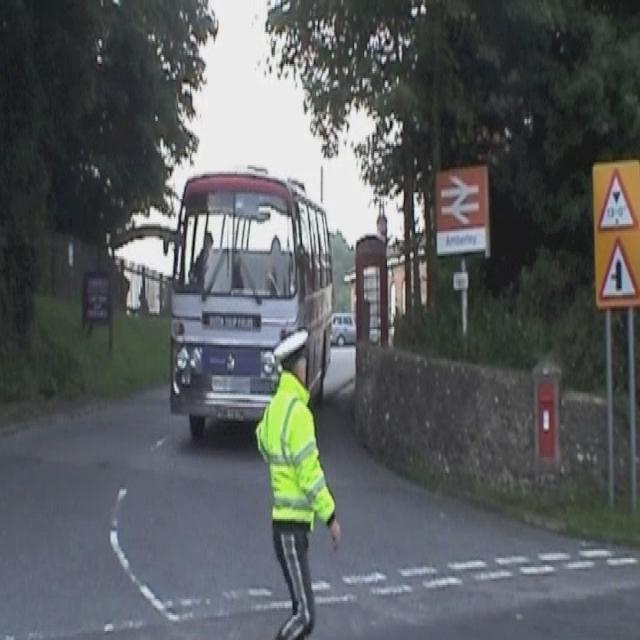fire_hydrant: (532, 354, 561, 478)
